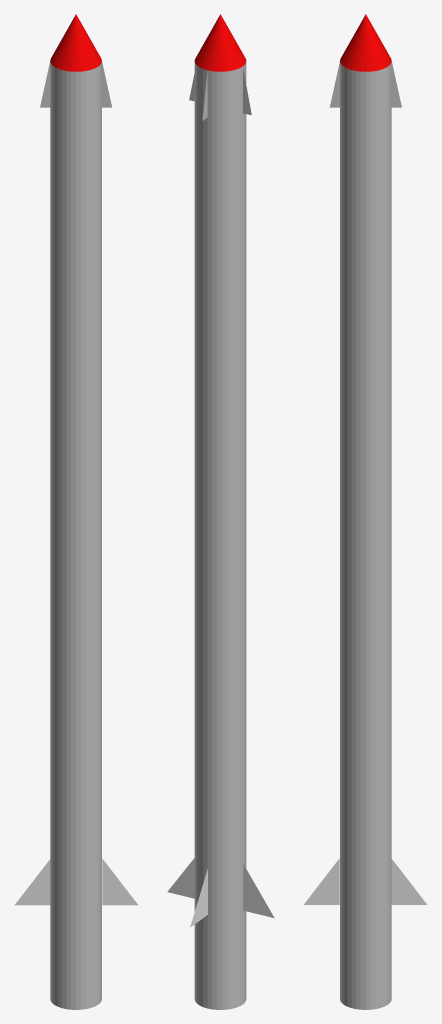
The model's file is rocket.obj.
3 views of the same model, side by side, from view 1: azimuth 90°, elevation 25°; view 2: azimuth 150°, elevation 25°; view 3: azimuth 270°, elevation 25° (orthographic).
Visible parts, largest first — view 1: Cylinder, Plane.006_Plane.012, Cone, Plane.005_Plane.011; view 2: Cylinder, Plane.006_Plane.012, Cone, Plane.005_Plane.011; view 3: Cylinder, Plane.006_Plane.012, Cone, Plane.005_Plane.011.
Part boxes in pixels (x1,y1,x2,y2): Cylinder: (50,62,101,1009); Plane.006_Plane.012: (15,859,137,905); Cone: (50,14,101,71); Plane.005_Plane.011: (40,61,112,107); Cylinder: (194,62,246,1009); Plane.006_Plane.012: (167,858,274,927); Cone: (194,14,246,71); Plane.005_Plane.011: (189,68,251,120); Cylinder: (340,62,391,1009); Plane.006_Plane.012: (304,858,426,904); Cone: (340,14,391,71); Plane.005_Plane.011: (329,61,401,107).
Size of the model in its own units: 4.8 by 42 by 4.8.
